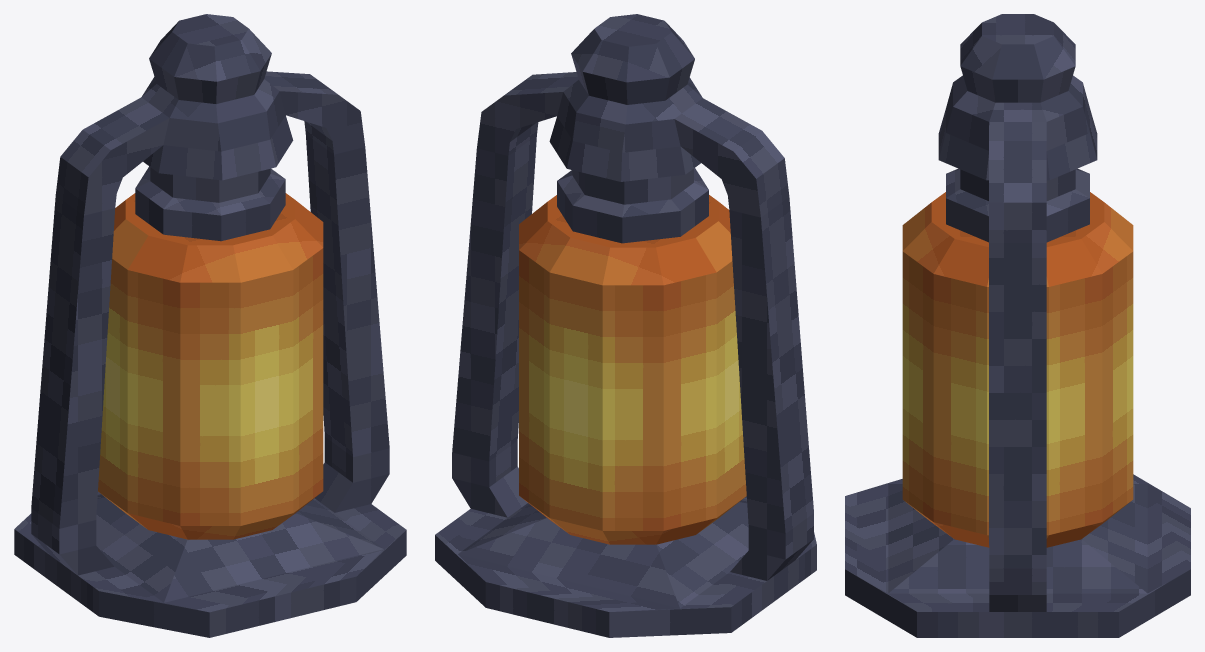
File: lanturn.gltf
3 renders of one model, left to right at view 1: azimuth 30°, elevation 25°; view 2: azimuth 150°, elevation 25°; view 3: azimuth 270°, elevation 25°, orthographic. The views are drawn at different scales.
Visible parts, largest first — view 1: Outer, cylinder; view 2: Outer, cylinder; view 3: Outer, cylinder.
Boxes of the visible parts, left/top/right/bottom form: Outer: left=14, top=14, right=406, bottom=637; cylinder: left=98, top=193, right=323, bottom=539; Outer: left=435, top=14, right=816, bottom=637; cylinder: left=519, top=195, right=746, bottom=544; Outer: left=845, top=14, right=1190, bottom=637; cylinder: left=902, top=192, right=1133, bottom=547.
Bounding box in the file's own units: 0.4219 × 0.6406 × 0.375.
2 materials, 2 textured.
